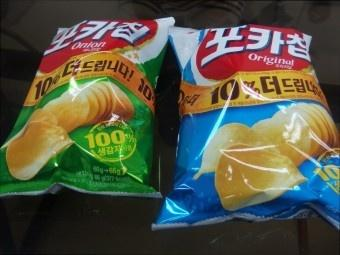snack: (150, 23, 340, 231), (0, 15, 176, 199)
